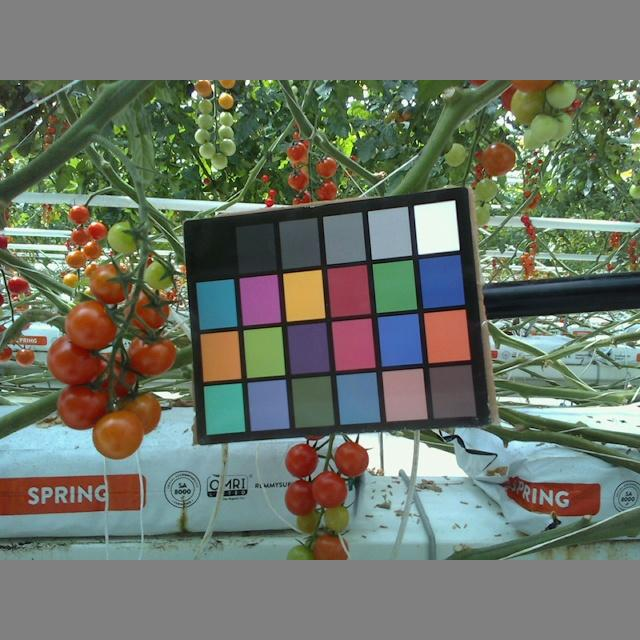green: (508, 85, 558, 127), (104, 220, 143, 257), (140, 260, 174, 291), (547, 83, 581, 111), (323, 502, 352, 533), (528, 115, 558, 142), (474, 175, 499, 202), (445, 143, 466, 170), (194, 126, 209, 147)
pink: (63, 301, 116, 351), (46, 334, 98, 383), (56, 381, 108, 430), (91, 412, 144, 457), (112, 393, 163, 437), (125, 333, 175, 376), (91, 265, 132, 303), (128, 295, 169, 333), (480, 143, 520, 178), (314, 469, 349, 506), (286, 479, 320, 516), (283, 443, 318, 478), (337, 441, 370, 478), (310, 533, 349, 560), (313, 154, 337, 177), (285, 139, 307, 161), (316, 180, 338, 199), (288, 169, 310, 188)
